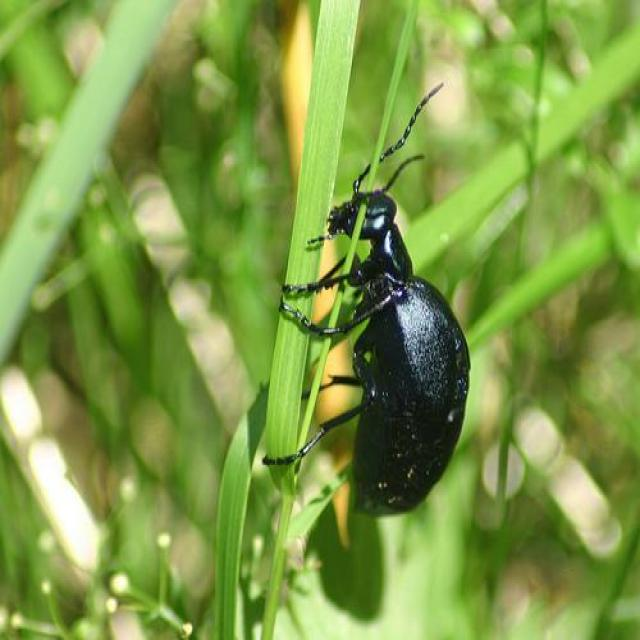BlisterBeetle-Adult-: (273, 81, 477, 533)
